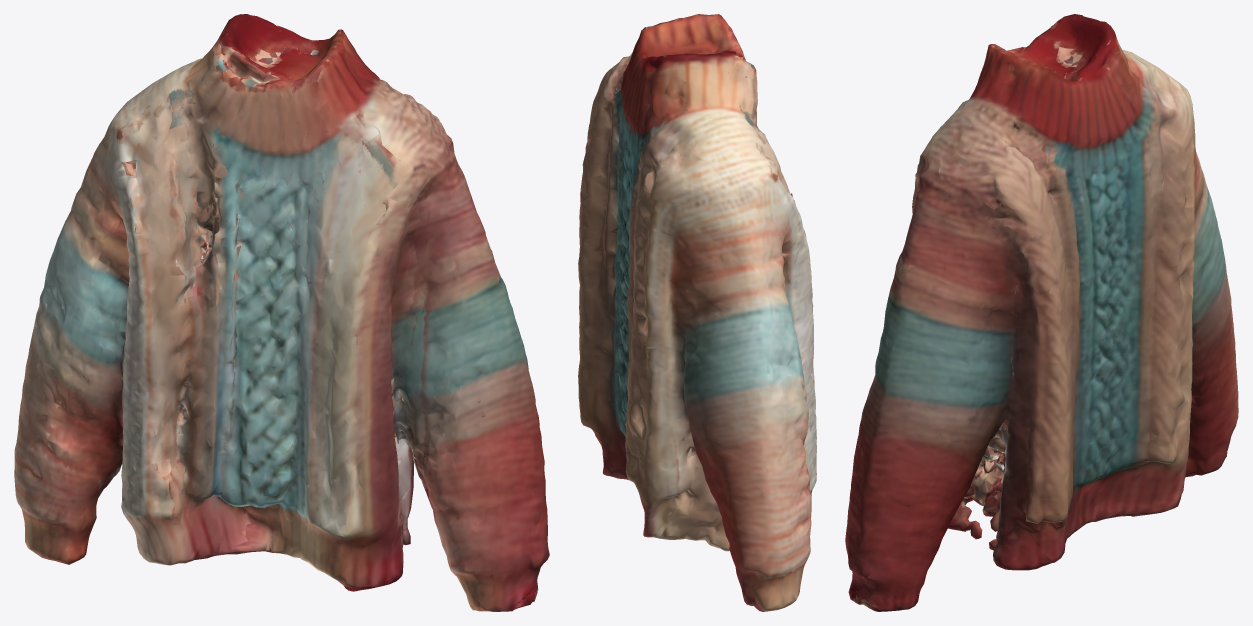
File: coat.glb
3 renders of one model, left to right at view 1: azimuth 30°, elevation 25°; view 2: azimuth 150°, elevation 25°; view 3: azimuth 270°, elevation 25°, orthographic. The views are drawn at different scales.
Size of the model in its own units: 1.33 by 1.92 by 1.33.
Materials: 1 (1 with a texture image).
